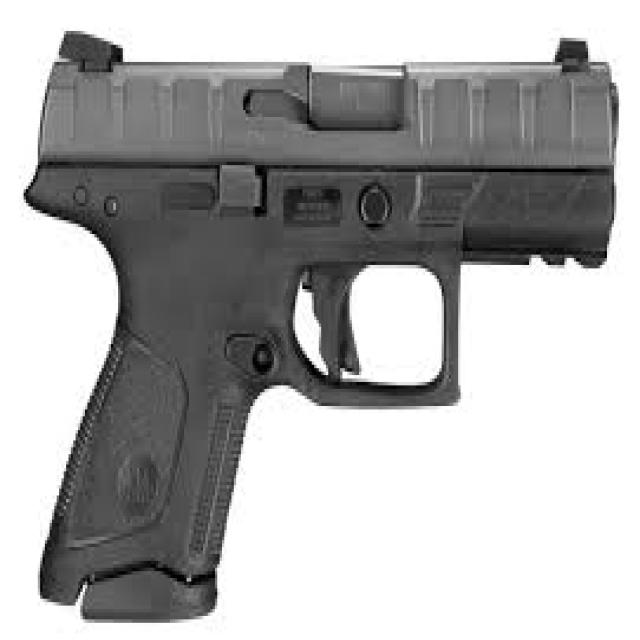pistol: (17, 25, 632, 638)
